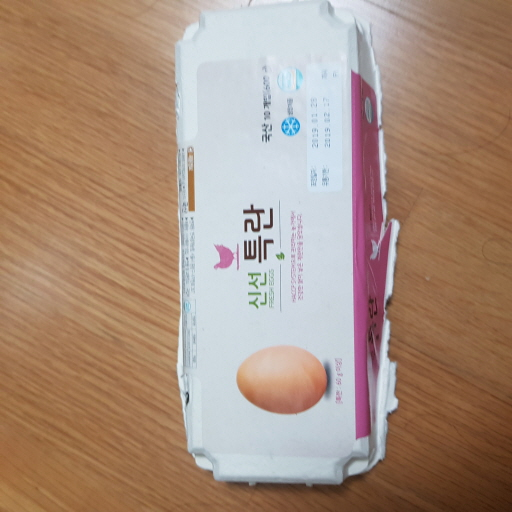Paper_0: (164, 2, 401, 493)
